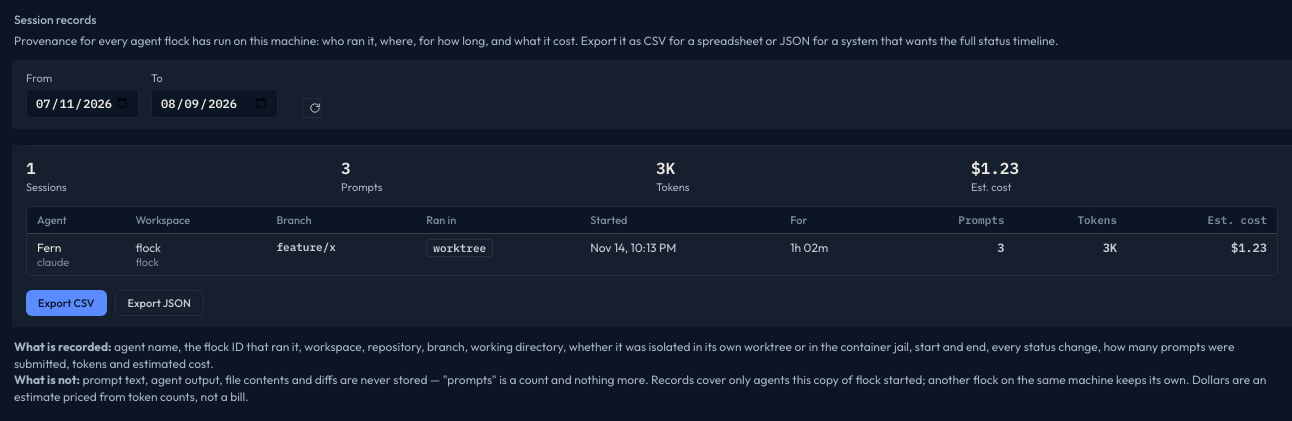
Scenario: ProvenanceSection › refuses a backwards range and does not query for it
Type "2026-12-31" into the date field labelled "From" at x=82, y=103, box [26, 89, 139, 118]
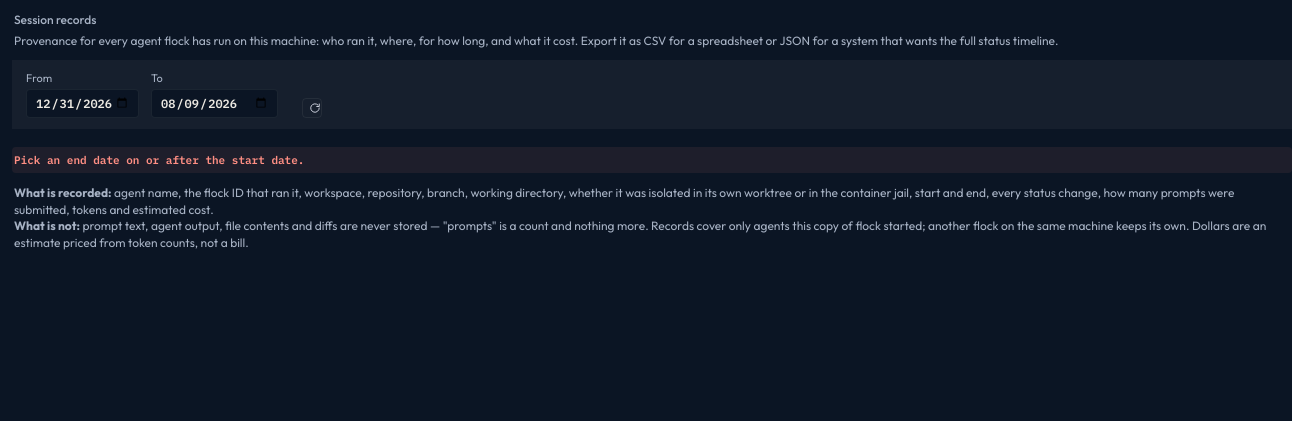
expect the text "Pick an end date on or after the start date." is shown: met, box [12, 147, 1291, 173]
